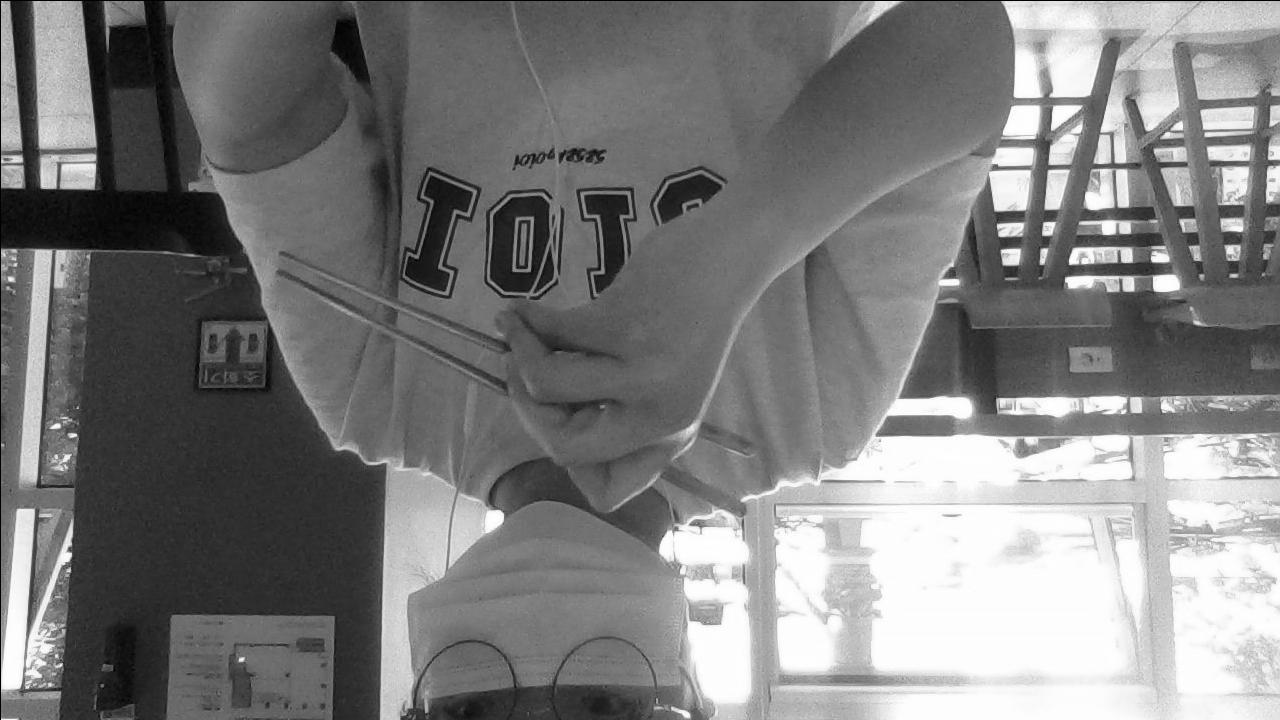chopstick: (267, 265, 743, 515), (275, 249, 755, 461)
hand: (496, 211, 753, 511)
